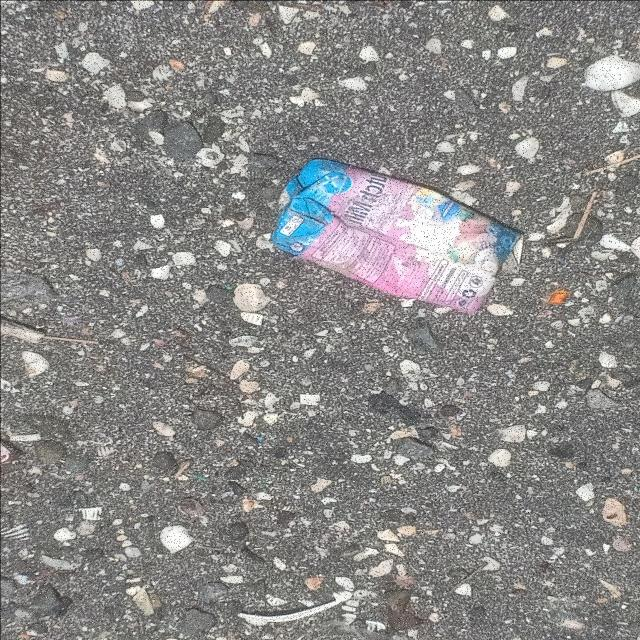cardboard_waste: (272, 156, 525, 312)
